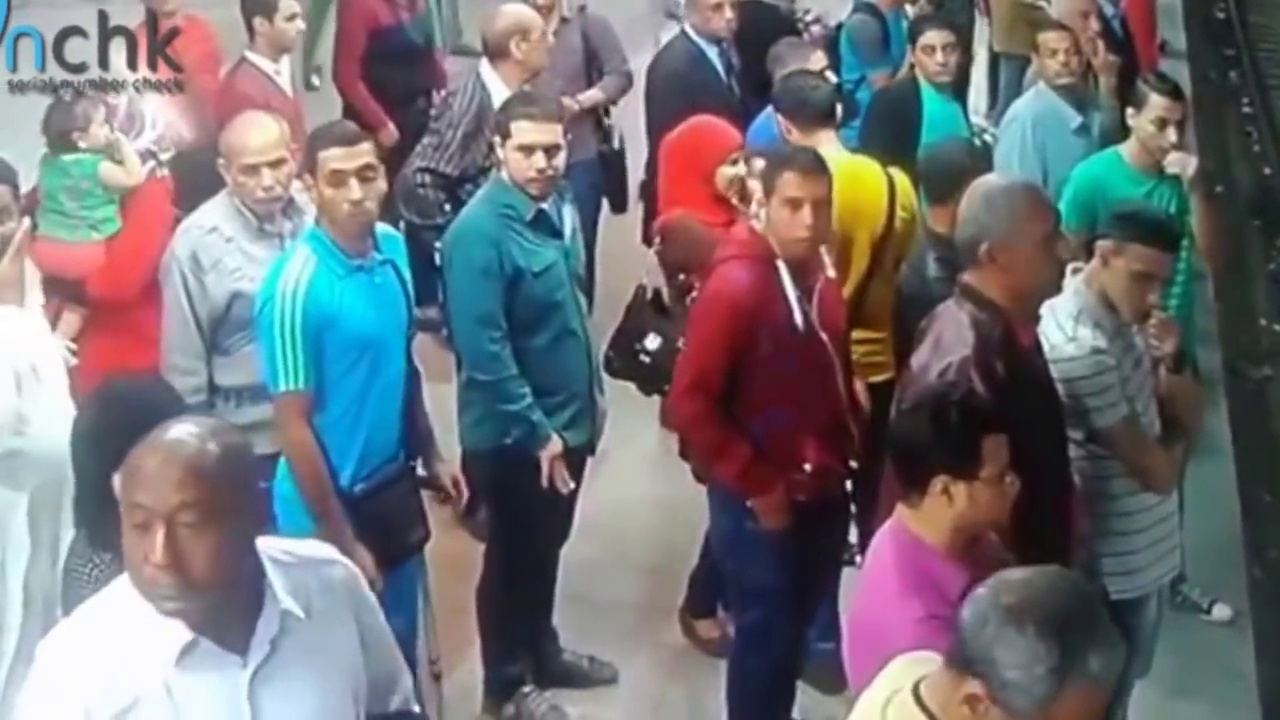face: (124, 463, 216, 624), (1006, 205, 1075, 303), (314, 153, 388, 228), (966, 433, 1018, 538), (501, 119, 572, 195), (769, 176, 836, 253), (1112, 245, 1171, 326), (224, 144, 293, 207), (1140, 94, 1182, 165), (913, 29, 962, 81), (693, 0, 748, 39), (1037, 37, 1083, 83), (270, 0, 306, 52), (712, 151, 744, 195)
